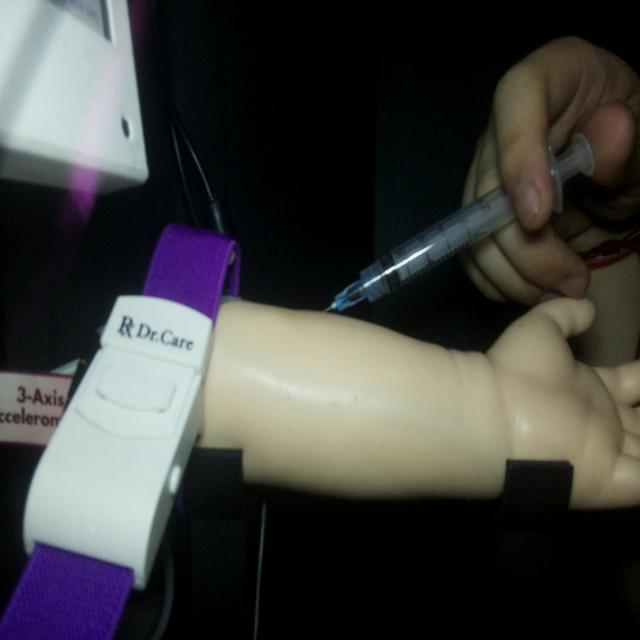24 degrees: (321, 130, 596, 316)
